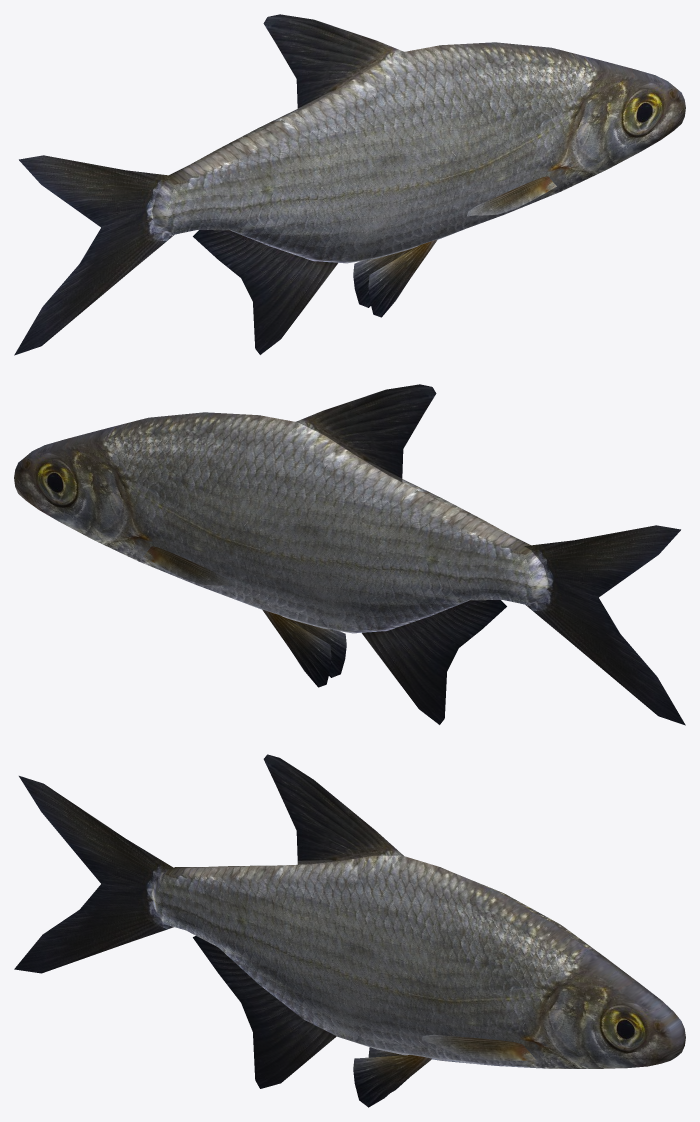
Rendered from WhiteBream.glb.
3 views of the same model, one above another, from view 1: azimuth 30°, elevation 25°; view 2: azimuth 150°, elevation 25°; view 3: azimuth 330°, elevation 25° (orthographic).
Parts seen in each view (by area): view 1: WhiteBream; view 2: WhiteBream; view 3: WhiteBream.
Boxes of the visible parts, x1=… form: WhiteBream: x1=14, y1=14, x2=685, y2=355; WhiteBream: x1=14, y1=384, x2=685, y2=725; WhiteBream: x1=14, y1=754, x2=685, y2=1107.
Size of the model in its own units: 2 by 0.9615 by 0.2358.
1 material, 1 textured.
